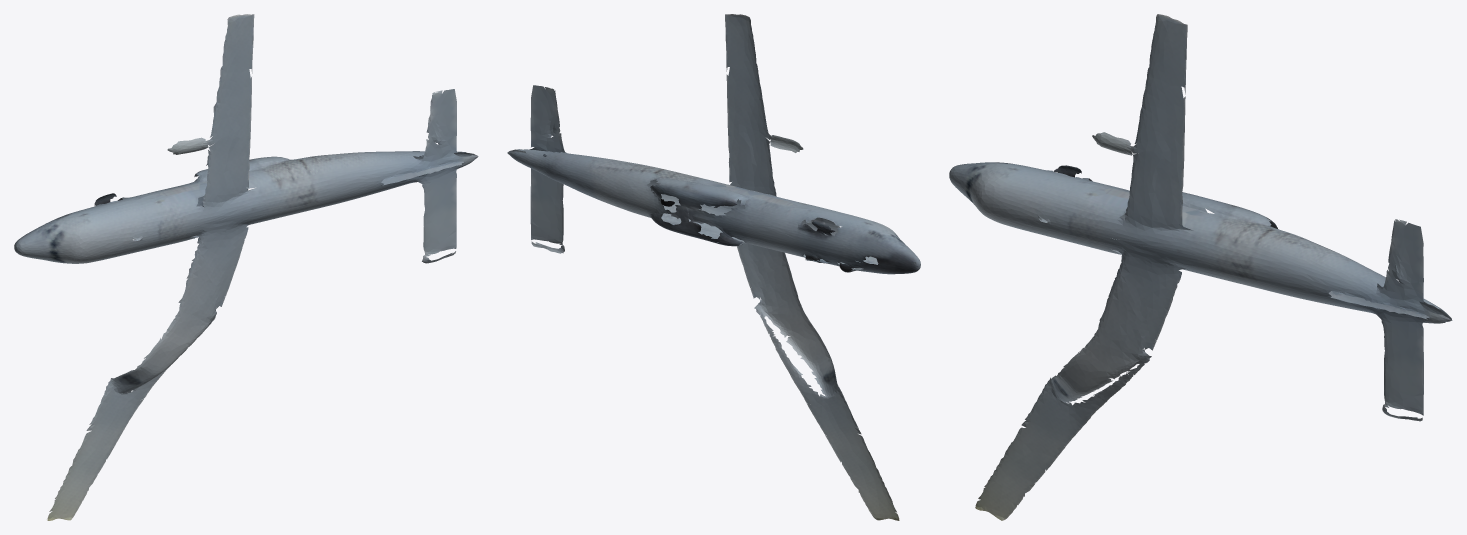
The model's file is EC-37B_Compass_Call_AI_Rodin.glb.
3 renders of one model, left to right at view 1: azimuth 30°, elevation 25°; view 2: azimuth 150°, elevation 25°; view 3: azimuth 330°, elevation 25°, orthographic. The views are drawn at different scales.
Parts seen in each view (by area): view 1: EC-37B_Compass_Call; view 2: EC-37B_Compass_Call; view 3: EC-37B_Compass_Call.
Part boxes in pixels (bbox=[...]): EC-37B_Compass_Call: bbox=[14, 14, 478, 520]; EC-37B_Compass_Call: bbox=[507, 14, 920, 520]; EC-37B_Compass_Call: bbox=[949, 14, 1452, 520].
Bounding box in the file's own units: 1.81 × 1.85 × 0.2478.
Materials: 1 (1 with a texture image).
